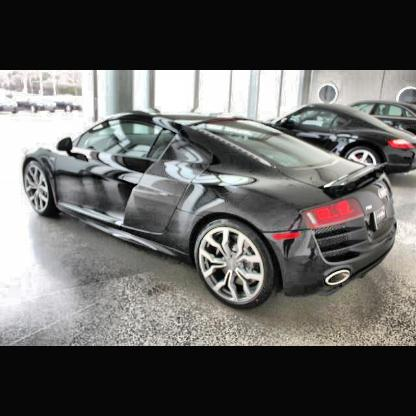Audi R8 Coupe 2012: (25, 112, 398, 308)
